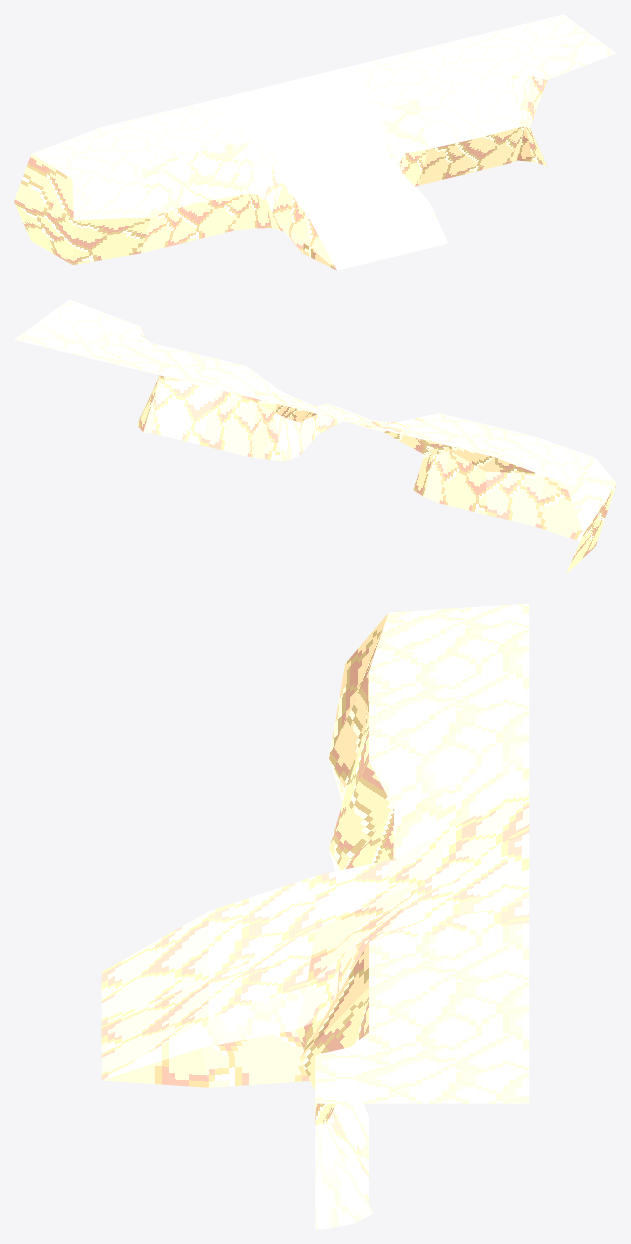
Rendered from thick_cliffs.glb.
3 views of the same model, one above another, from view 1: azimuth 30°, elevation 25°; view 2: azimuth 150°, elevation 25°; view 3: azimuth 270°, elevation 25° (orthographic). The views are drawn at different scales.
Parts seen in each view (by area): view 1: CliffOuter, CliffSide2, CliffSide1, RampUpperRight, RampUpperLeft, CliffInner, RampLowerLeft, RampLowerRight; view 2: CliffSide2, CliffSide1, CliffOuter, CliffInner, RampUpperRight, RampUpperLeft, RampLowerRight; view 3: RampUpperLeft, RampLowerRight, CliffSide2, CliffInner, CliffSide1, RampUpperRight, RampLowerLeft, CliffOuter.
Part boxes in pixels (left/top/right/bottom): CliffOuter: left=14, top=127, right=150, bottom=264; CliffSide2: left=378, top=37, right=520, bottom=185; CliffSide1: left=101, top=104, right=243, bottom=253; RampUpperRight: left=286, top=59, right=428, bottom=186; RampUpperLeft: left=194, top=82, right=338, bottom=231; CliffInner: left=471, top=14, right=616, bottom=166; RampLowerLeft: left=272, top=169, right=392, bottom=270; RampLowerRight: left=339, top=163, right=447, bottom=256; CliffSide2: left=110, top=343, right=257, bottom=456; CliffSide1: left=398, top=413, right=544, bottom=526; CliffOuter: left=494, top=436, right=616, bottom=573; CliffInner: left=14, top=299, right=161, bottom=432; RampUpperRight: left=206, top=366, right=351, bottom=461; RampUpperLeft: left=304, top=410, right=449, bottom=502; RampLowerRight: left=299, top=403, right=380, bottom=455; RampUpperLeft: left=315, top=742, right=529, bottom=929; RampLowerRight: left=101, top=930, right=315, bottom=1087; CliffSide2: left=300, top=923, right=529, bottom=1203; CliffInner: left=315, top=1013, right=529, bottom=1229; CliffSide1: left=329, top=652, right=529, bottom=847; RampUpperRight: left=296, top=833, right=529, bottom=1113; RampLowerLeft: left=101, top=876, right=315, bottom=1025; CliffOuter: left=329, top=603, right=529, bottom=757.
Bounding box in the file's own units: 5.94 × 1 × 2.
